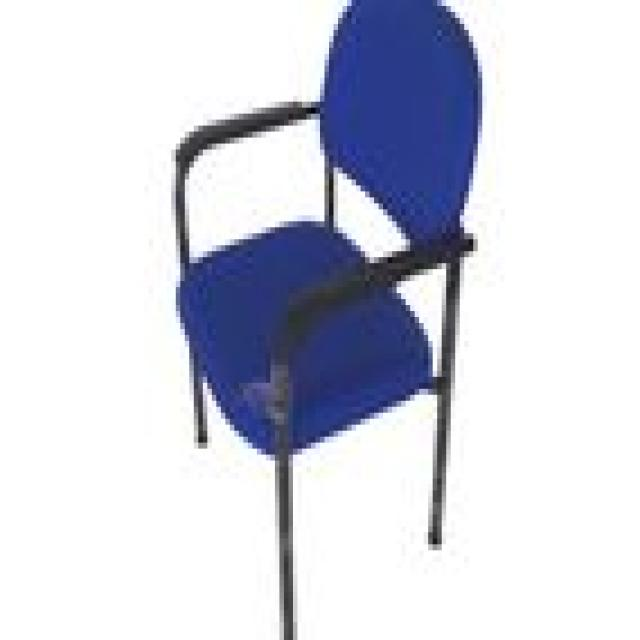others: (104, 6, 545, 634)
